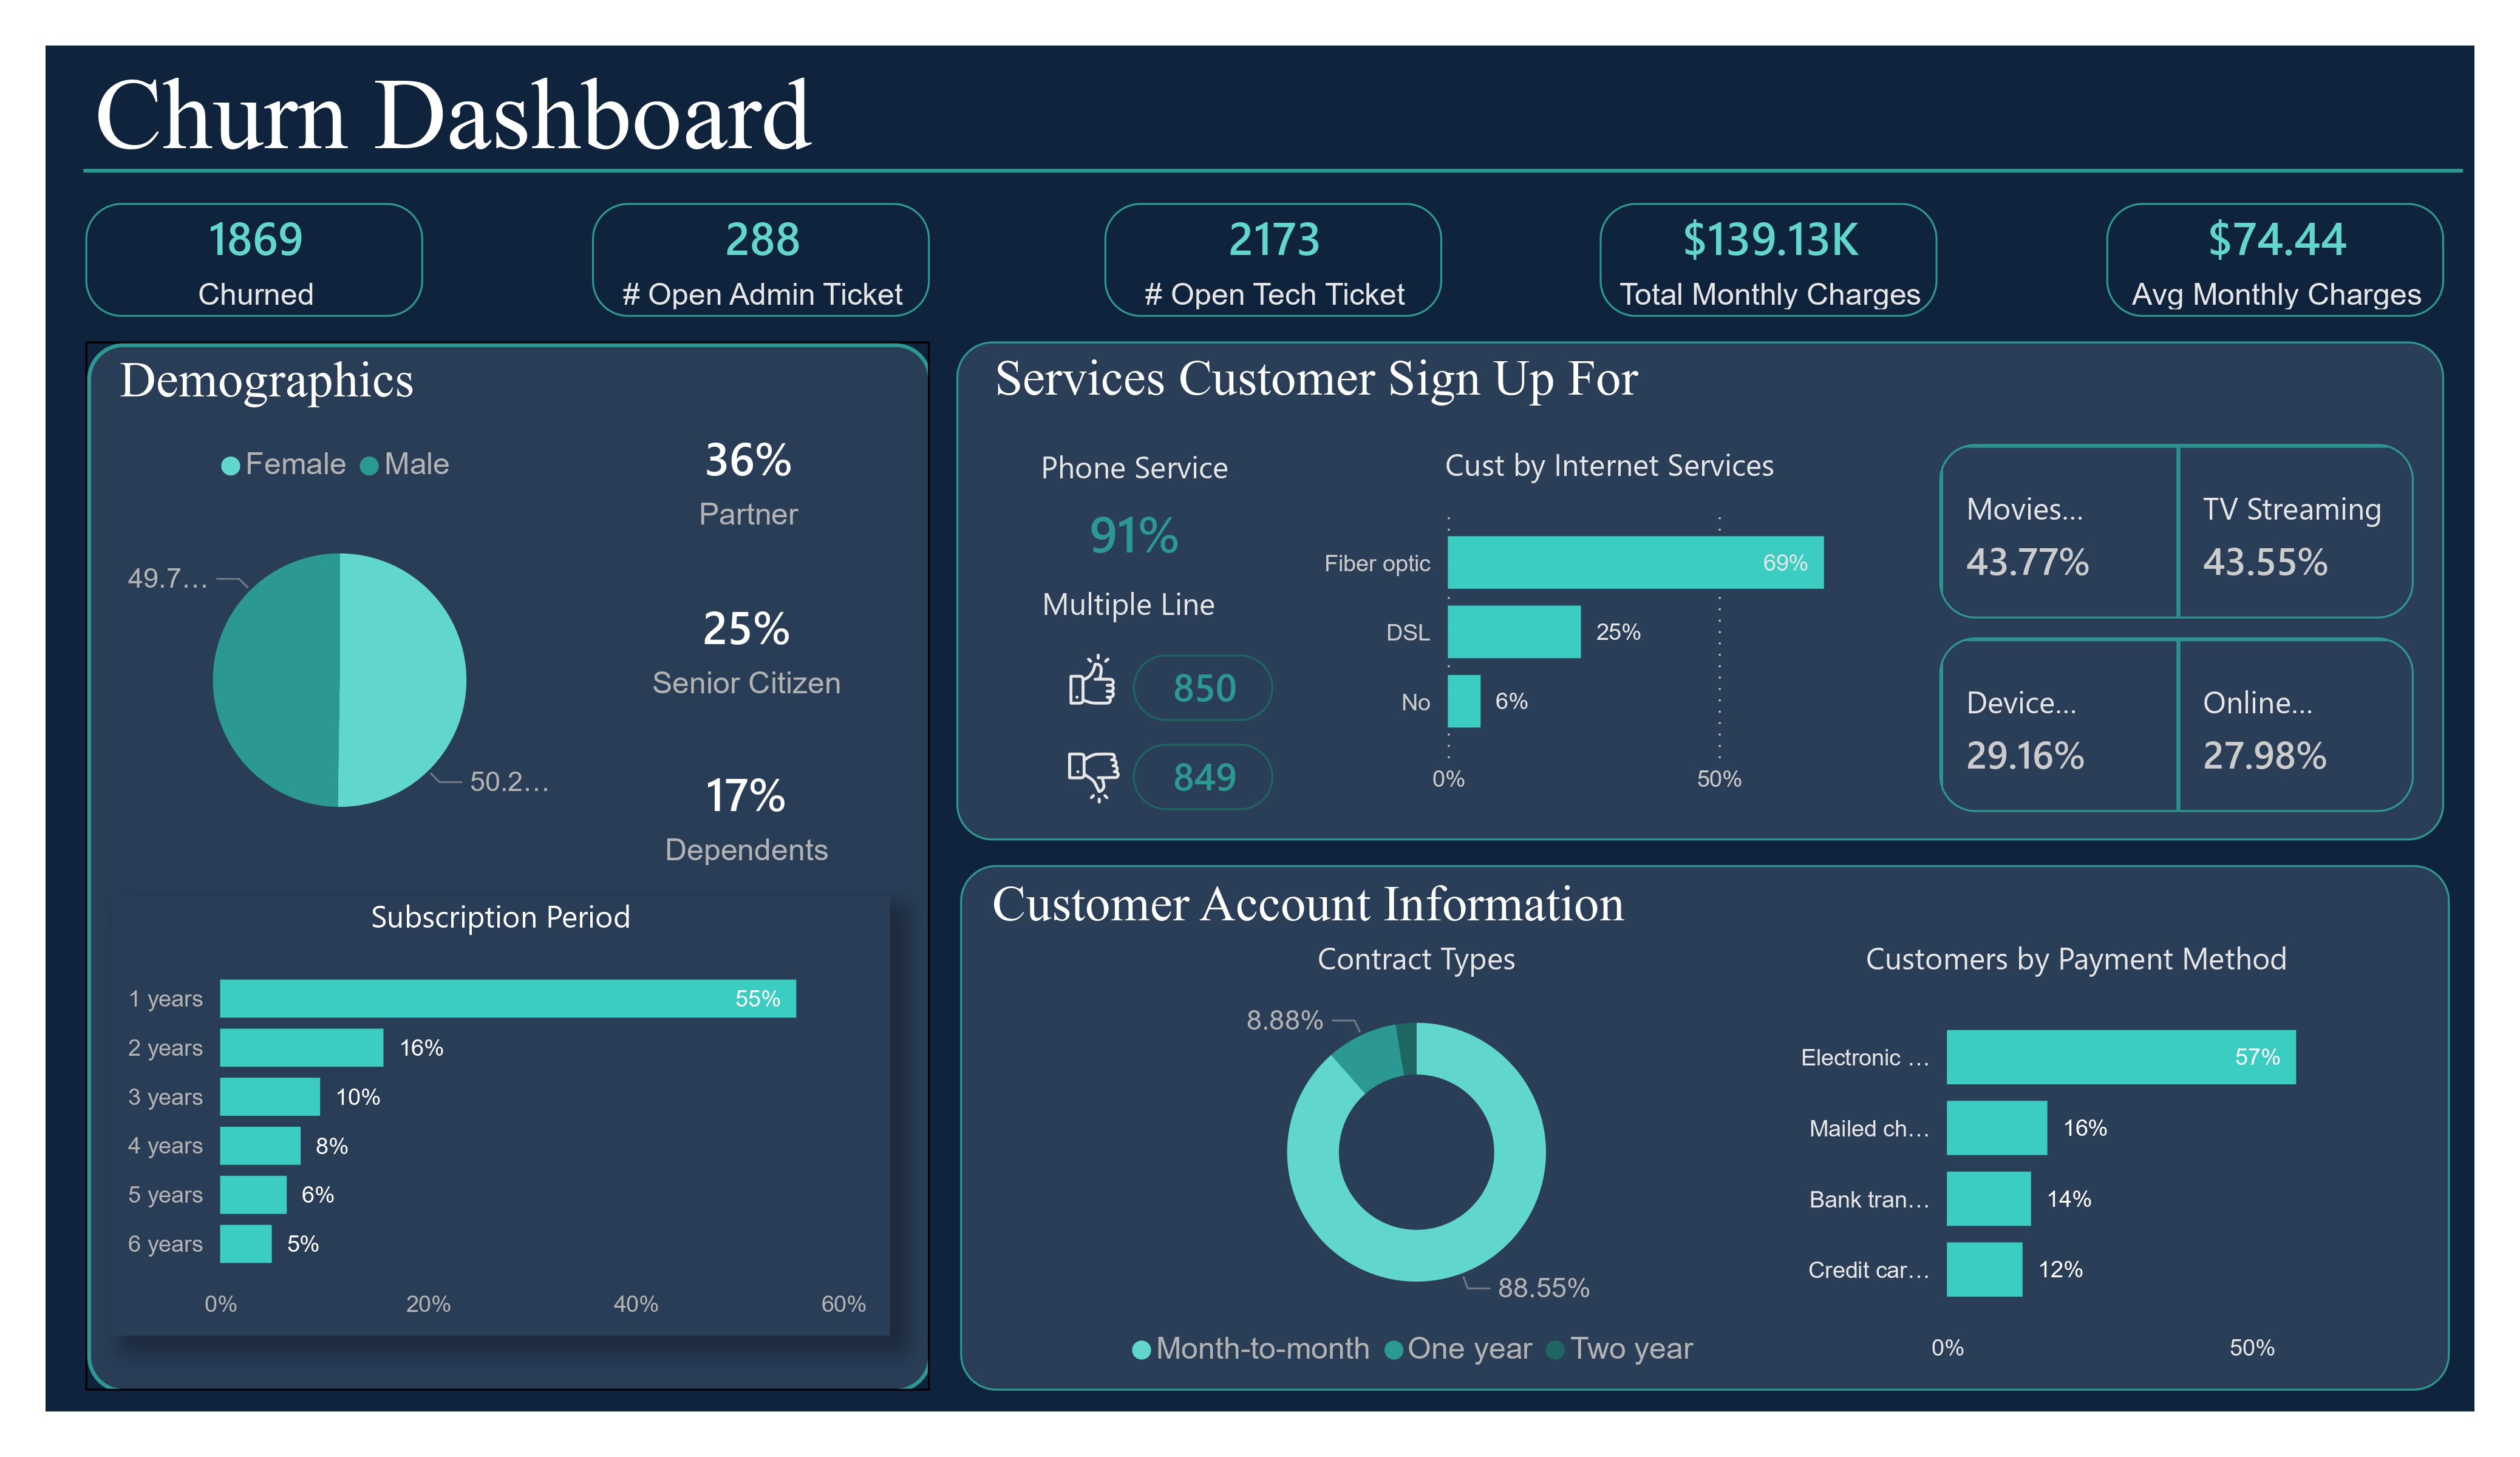

The page's visual inventory and layout, read from the dashboard file:
{"tool":"powerbi","page":{"name":"Page 5","canvas":[1280,720],"ordinal":0},"visuals":[{"type":"shape","box":[20.7,155.8,445,553.1],"z":0},{"type":"shape","box":[20,61.4,1254.3,10],"z":1000},{"type":"textbox","box":[20.8,0,474.3,71.8],"z":2000},{"type":"card","fields":{"Values":["01 Churn-Dataset.ChurnNum"]},"box":[20.7,82.6,178,60.4],"z":3000},{"type":"pieChart","fields":{"Category":["01 Churn-Dataset.gender"],"Y":["CountNonNull(01 Churn-Dataset.customerID)"]},"box":[36.6,200.3,236.8,236.8],"z":4000},{"type":"card","fields":{"Values":["01 Churn-Dataset.%partner"]},"box":[294.3,200,152.9,60],"z":5000},{"type":"card","fields":{"Values":["01 Churn-Dataset.%senior"]},"box":[292.9,288.6,152.9,60],"z":6000},{"type":"card","fields":{"Values":["01 Churn-Dataset.%dependent"]},"box":[292.9,377.1,152.9,60],"z":7000},{"type":"clusteredBarChart","title":"Subscription Period","fields":{"Category":["01 Churn-Dataset.LoyaltybyYears"],"Y":["CountNonNull(01 Churn-Dataset.customerID)"]},"box":[35,448.2,410.1,232.1],"z":8000},{"type":"shape","box":[480,155.7,784.3,262.9],"z":9000},{"type":"shape","box":[481.6,432.3,785.2,276.6],"z":10000},{"type":"card","title":"Phone Service","fields":{"Values":["01 Churn-Dataset.%phoneService"]},"box":[501.7,210.7,144.6,73.1],"z":11000},{"type":"card","fields":{"Values":["01 Churn-Dataset.multipleLineYes"]},"box":[573.3,321.2,73.3,35],"z":12000},{"type":"card","fields":{"Values":["01 Churn-Dataset.multipleLineNo"]},"box":[573.3,367.9,73.3,35],"z":13000},{"type":"clusteredBarChart","title":"Cust by Internet Services","fields":{"Category":["01 Churn-Dataset.InternetService"],"Y":["CountNonNull(01 Churn-Dataset.customerID)"]},"box":[661.7,210,325,193.3],"z":14000},{"type":"cardVisual","fields":{"Data":["01 Churn-Dataset.%deviceProtection","01 Churn-Dataset.%onlineBackup"]},"box":[998.1,311.5,249.5,92.2],"z":15000},{"type":"donutChart","title":"Contract Types","fields":{"Category":["01 Churn-Dataset.Contract"],"Y":["CountNonNull(01 Churn-Dataset.customerID)"]},"box":[502.3,470.5,435.5,232.1],"z":16000},{"type":"clusteredBarChart","title":"Customers by Payment Method","fields":{"Category":["01 Churn-Dataset.PaymentMethod"],"Y":["CountNonNull(01 Churn-Dataset.customerID)"]},"box":[907.5,470.5,325.8,232.1],"z":17000},{"type":"card","fields":{"Values":["01 Churn-Dataset.AvgMonthlyCharges"]},"box":[1085.6,82.6,178,60.4],"z":18000},{"type":"card","fields":{"Values":["Sum(01 Churn-Dataset.MonthlyCharges)"]},"box":[818.5,82.6,178,60.4],"z":19000},{"type":"card","fields":{"Values":["CountNonNull(01 Churn-Dataset.OpenAdmTicket)"]},"box":[287.7,82.6,178,60.4],"z":20000},{"type":"card","fields":{"Values":["01 Churn-Dataset.numTech"]},"box":[557.9,82.6,178,60.4],"z":21000},{"type":"textbox","box":[34.3,155.7,205.7,41.4],"z":22000},{"type":"textbox","box":[495,155,503.3,41.7],"z":23000},{"type":"textbox","box":[519.7,278.1,127.2,33.4],"z":24000},{"type":"cardVisual","fields":{"Data":["01 Churn-Dataset.%streamingMovies","01 Churn-Dataset.%streamingTv"]},"box":[998.1,209.8,249.5,92.2],"z":25000},{"type":"textbox","box":[494.3,432.3,502.3,41.3],"z":26000},{"type":"image","box":[529.3,309.9,44.5,47.7],"z":27000},{"type":"image","box":[522.9,362.4,58.8,47.7],"z":28000}]}

Visuals, with their boxes in screenshot pixels (x1, y1, x2, y2):
shape: (x1=85, y1=341, x2=929, y2=1390)
shape: (x1=84, y1=162, x2=2464, y2=181)
textbox: (x1=85, y1=46, x2=985, y2=182)
card - 01 Churn-Dataset.ChurnNum: (x1=85, y1=202, x2=423, y2=317)
pieChart - 01 Churn-Dataset.gender x CountNonNull(01 Churn-Dataset.customerID): (x1=115, y1=426, x2=564, y2=875)
card - 01 Churn-Dataset.%partner: (x1=604, y1=425, x2=894, y2=539)
card - 01 Churn-Dataset.%senior: (x1=601, y1=593, x2=891, y2=707)
card - 01 Churn-Dataset.%dependent: (x1=601, y1=761, x2=891, y2=875)
"Subscription Period" clusteredBarChart: (x1=112, y1=896, x2=890, y2=1336)
shape: (x1=956, y1=341, x2=2445, y2=840)
shape: (x1=959, y1=866, x2=2450, y2=1390)
"Phone Service" card: (x1=998, y1=445, x2=1272, y2=584)
card - 01 Churn-Dataset.multipleLineYes: (x1=1134, y1=655, x2=1273, y2=721)
card - 01 Churn-Dataset.multipleLineNo: (x1=1134, y1=744, x2=1273, y2=810)
"Cust by Internet Services" clusteredBarChart: (x1=1301, y1=444, x2=1918, y2=810)
cardVisual - 01 Churn-Dataset.%deviceProtection x 01 Churn-Dataset.%onlineBackup: (x1=1939, y1=636, x2=2413, y2=812)
"Contract Types" donutChart: (x1=999, y1=938, x2=1825, y2=1379)
"Customers by Payment Method" clusteredBarChart: (x1=1768, y1=938, x2=2386, y2=1379)
card - 01 Churn-Dataset.AvgMonthlyCharges: (x1=2105, y1=202, x2=2443, y2=317)
card - Sum(01 Churn-Dataset.MonthlyCharges): (x1=1599, y1=202, x2=1936, y2=317)
card - CountNonNull(01 Churn-Dataset.OpenAdmTicket): (x1=591, y1=202, x2=929, y2=317)
card - 01 Churn-Dataset.numTech: (x1=1104, y1=202, x2=1442, y2=317)
textbox: (x1=111, y1=341, x2=501, y2=419)
textbox: (x1=985, y1=339, x2=1940, y2=419)
textbox: (x1=1032, y1=573, x2=1273, y2=636)
cardVisual - 01 Churn-Dataset.%streamingMovies x 01 Churn-Dataset.%streamingTv: (x1=1939, y1=444, x2=2413, y2=619)
textbox: (x1=984, y1=866, x2=1936, y2=944)
image: (x1=1050, y1=633, x2=1134, y2=724)
image: (x1=1038, y1=733, x2=1149, y2=824)
